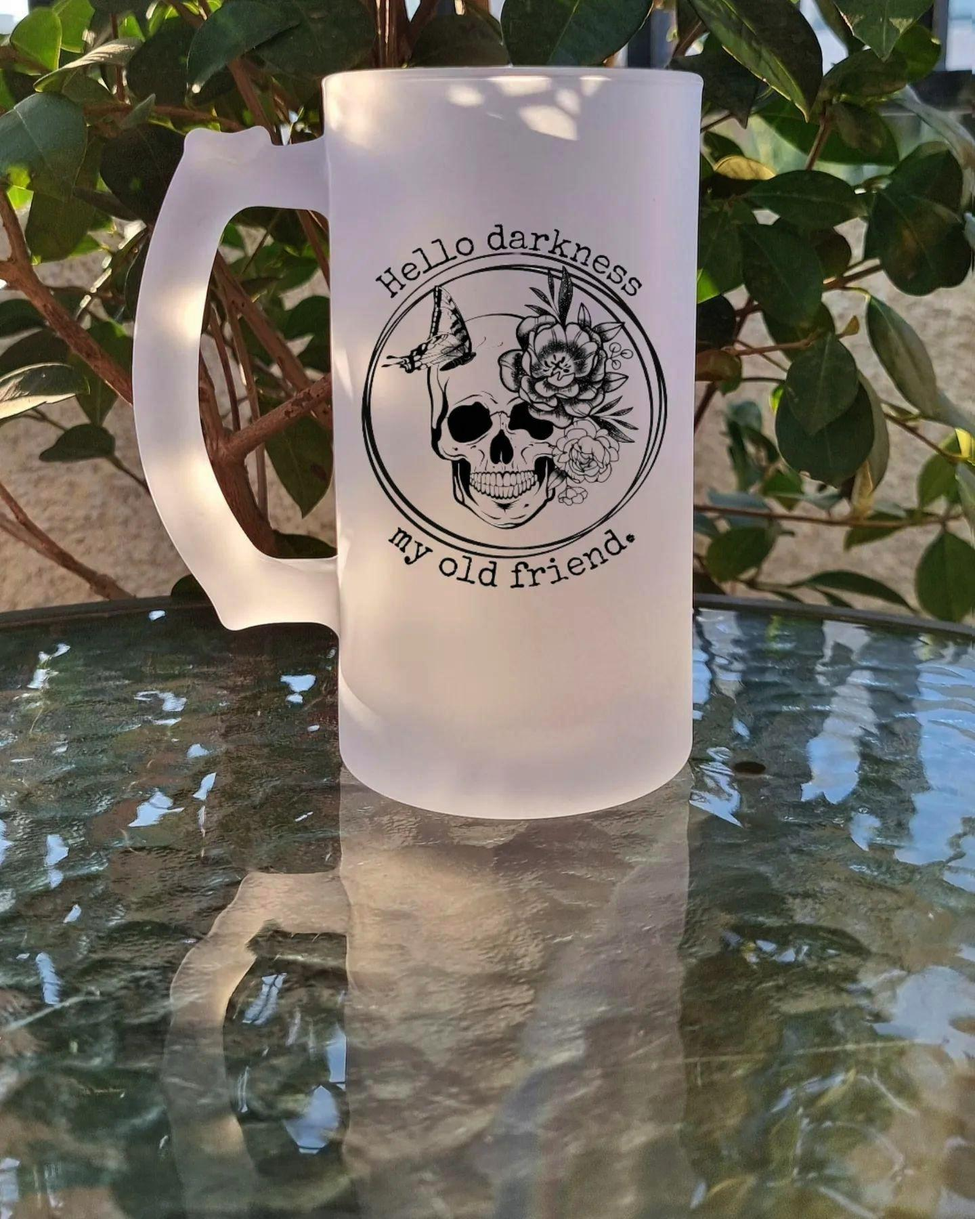glass-mug: (109, 50, 722, 836)
